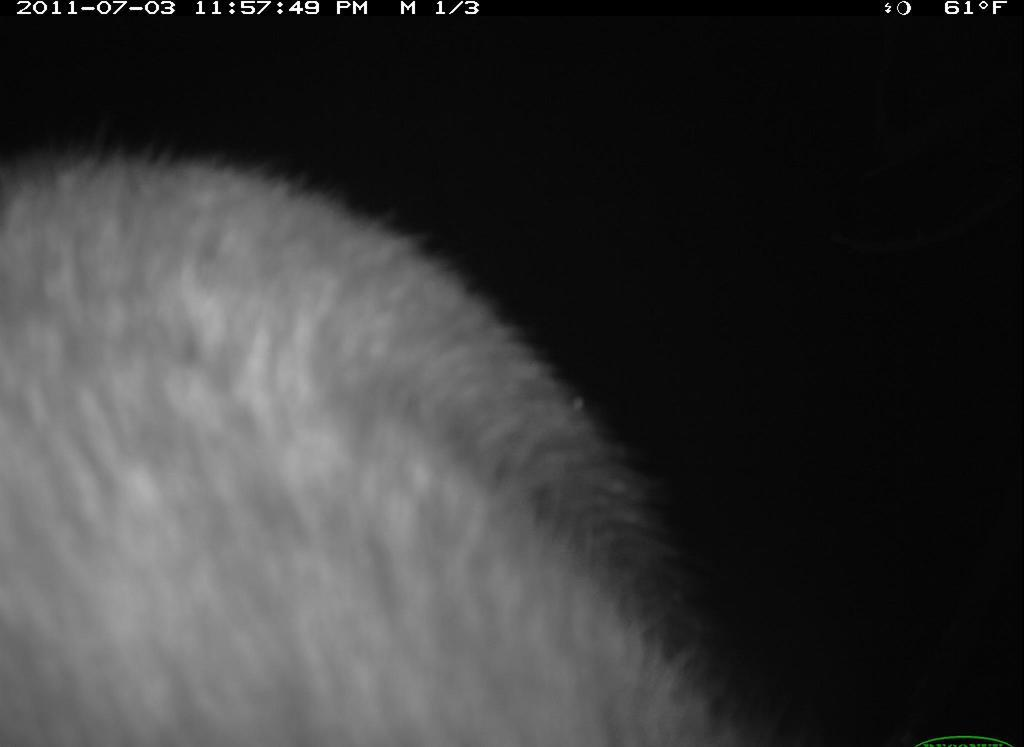raccoon: (12, 150, 781, 745)
